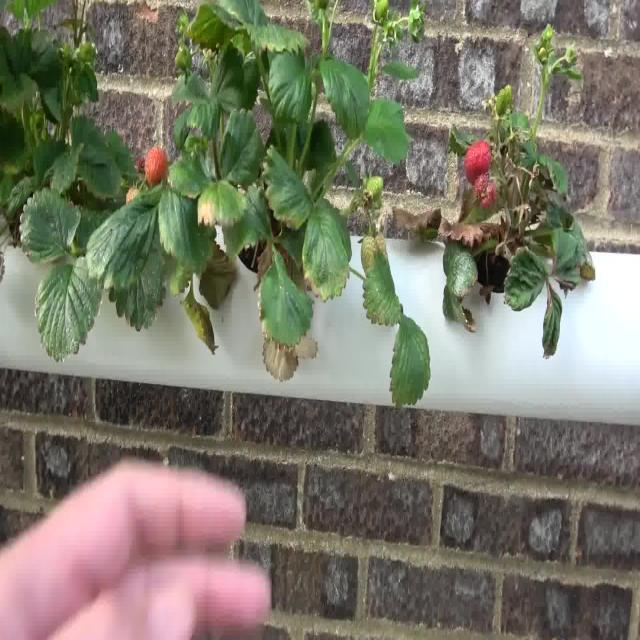Fruta sana: (143, 142, 164, 186), (462, 142, 489, 176)
Mancha negra Antracnosis: (473, 174, 498, 208)
